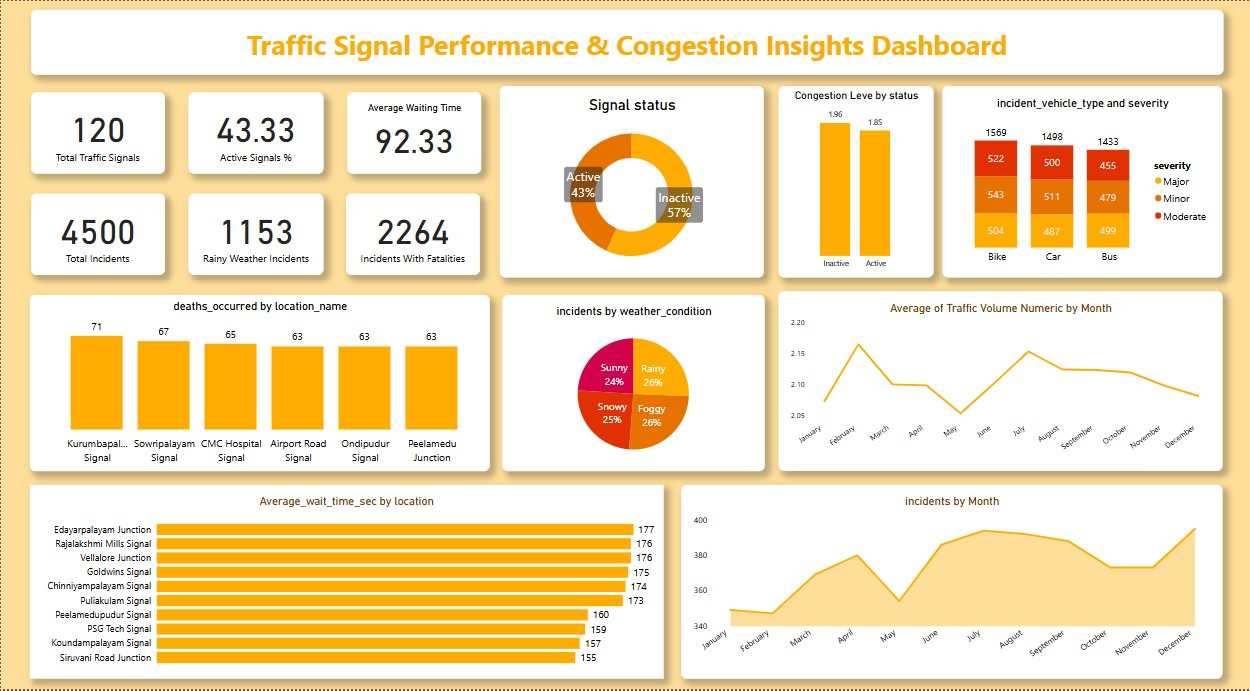

This screenshot's page, from the dashboard's own definition file:
{"tool":"powerbi","page":{"name":"Page 1","canvas":[2000,1100],"ordinal":0},"visuals":[{"type":"lineChart","fields":{"Category":["Table2.date_time.Variation.Date Hierarchy.Year","Table2.date_time.Variation.Date Hierarchy.Quarter","Table2.date_time.Variation.Date Hierarchy.Month"],"Y":["Avg(Table2.Traffic Volume Numeric)"]},"box":[1244,464,710,288],"z":0},{"type":"pieChart","title":"incidents by weather_condition","fields":{"Category":["Table5.weather_condition"],"Y":["CountNonNull(Table5.incident_id)"]},"box":[802,470,420,282],"z":1000},{"type":"donutChart","title":"Signal status","fields":{"Category":["Table3.status"],"Y":["CountNonNull(Table3.location_id)"]},"box":[798,136,422,306],"z":2000},{"type":"card","title":"Average Waiting Time ","fields":{"Values":["Table1.Avg Wait Time"]},"box":[554,146,214,130],"z":3000},{"type":"columnChart","title":"incident_vehicle_type and severity","fields":{"Category":["Table5.incident_vehicle_type"],"Y":["CountNonNull(Table5.incident_id)"],"Series":["Table5.severity"]},"box":[1506,136,448,306],"z":4000},{"type":"areaChart","title":"incidents by Month","fields":{"Category":["Table5.date_time.Variation.Date Hierarchy.Year","Table5.date_time.Variation.Date Hierarchy.Quarter","Table5.date_time.Variation.Date Hierarchy.Month","Table5.date_time.Variation.Date Hierarchy.Day"],"Y":["CountNonNull(Table5.incident_id)"]},"box":[1088,774,866,310],"z":5000},{"type":"barChart","title":"Average_wait_time_sec by location","fields":{"Category":["Table1.location_name"],"Y":["Avg(Table3.average_wait_time_sec)"]},"box":[46,774,1014,310],"z":6000},{"type":"card","fields":{"Values":["Table1.Rainy Weather Incidents"]},"box":[300,308,216,130],"z":7000},{"type":"card","fields":{"Values":["Table3.Total Traffic Signals"]},"box":[48,146,214,130],"z":8000},{"type":"card","fields":{"Values":["Table5.Incidents With Fatalities"]},"box":[552,308,214,130],"z":9000},{"type":"card","fields":{"Values":["Table3.Active Signals %"]},"box":[300,146,216,130],"z":10000},{"type":"card","fields":{"Values":["Table1.Total Incidents"]},"box":[48,308,214,130],"z":11000},{"type":"columnChart","title":"deaths_occurred by location_name","fields":{"Category":["Table1.location_name"],"Y":["Sum(Table5.deaths_occurred)"]},"box":[46,470,736,282],"z":12000},{"type":"clusteredColumnChart","title":"Congestion Leve by status","fields":{"Category":["Table3.status"],"Y":["Avg(Table3.Congestion Numeric)"]},"box":[1244,136,248,306],"z":13000},{"type":"textbox","box":[48,14,1908,104],"z":14000}]}

Visuals, with their boxes in screenshot pixels (x1, y1, x2, y2), scaled from the page's 2000x1100 canvas onto the 1250x691 screenshot:
lineChart - Table2.date_time.Variation.Date Hierarchy.Year x Table2.date_time.Variation.Date Hierarchy.Quarter: box(778, 291, 1221, 472)
"incidents by weather_condition" pieChart: box(501, 295, 764, 472)
"Signal status" donutChart: box(499, 85, 762, 278)
"Average Waiting Time " card: box(346, 92, 480, 173)
"incident_vehicle_type and severity" columnChart: box(941, 85, 1221, 278)
"incidents by Month" areaChart: box(680, 486, 1221, 681)
"Average_wait_time_sec by location" barChart: box(29, 486, 662, 681)
card - Table1.Rainy Weather Incidents: box(188, 193, 322, 275)
card - Table3.Total Traffic Signals: box(30, 92, 164, 173)
card - Table5.Incidents With Fatalities: box(345, 193, 479, 275)
card - Table3.Active Signals %: box(188, 92, 322, 173)
card - Table1.Total Incidents: box(30, 193, 164, 275)
"deaths_occurred by location_name" columnChart: box(29, 295, 489, 472)
"Congestion Leve by status" clusteredColumnChart: box(778, 85, 932, 278)
textbox: box(30, 9, 1222, 74)
